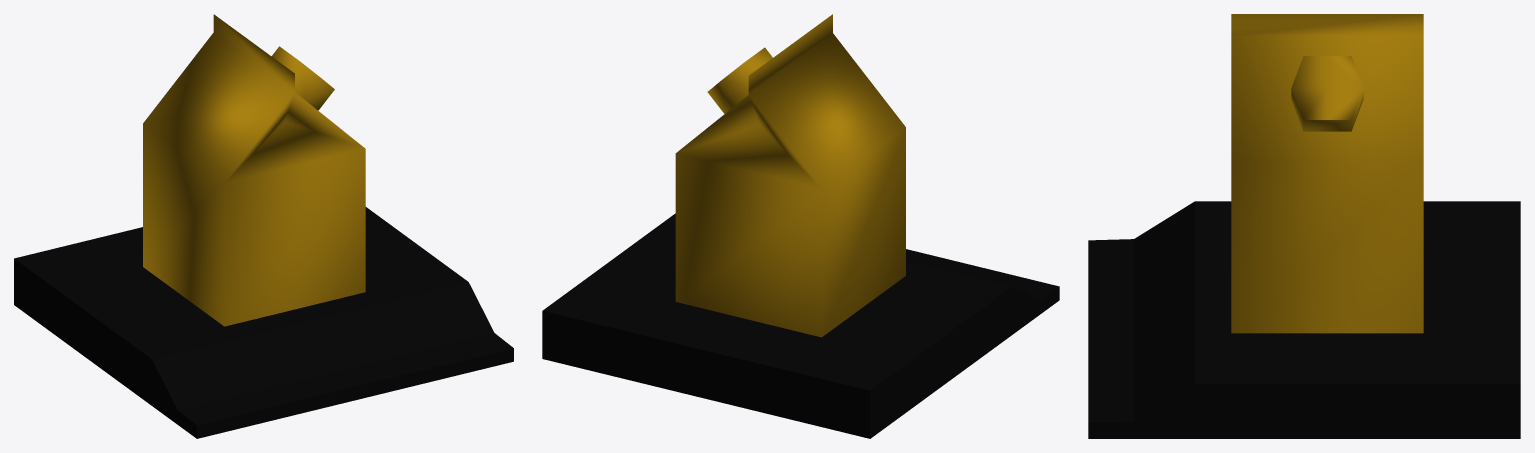
The picture shows the model from 3 angles, left to right: view 1: azimuth 30°, elevation 25°; view 2: azimuth 150°, elevation 25°; view 3: azimuth 270°, elevation 25°; orthographic projection. The views are drawn at different scales.
Parts seen in each view (by area): view 1: base.017, Object_2; view 2: Object_2, base.017; view 3: base.017, Object_2.
Part boxes in pixels (x1,y1,x2,y2): base.017: (14, 207, 513, 438); Object_2: (143, 14, 365, 326); Object_2: (675, 14, 905, 337); base.017: (542, 213, 1059, 438); base.017: (1088, 201, 1520, 438); Object_2: (1231, 14, 1423, 333).
Size of the model in its own units: 79.88 by 68.05 by 79.88.
